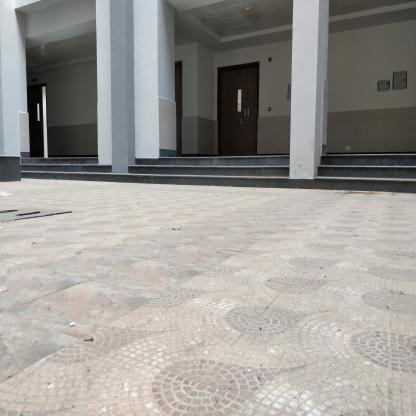stairs: (164, 154, 288, 192), (324, 153, 416, 197), (27, 157, 99, 184)
